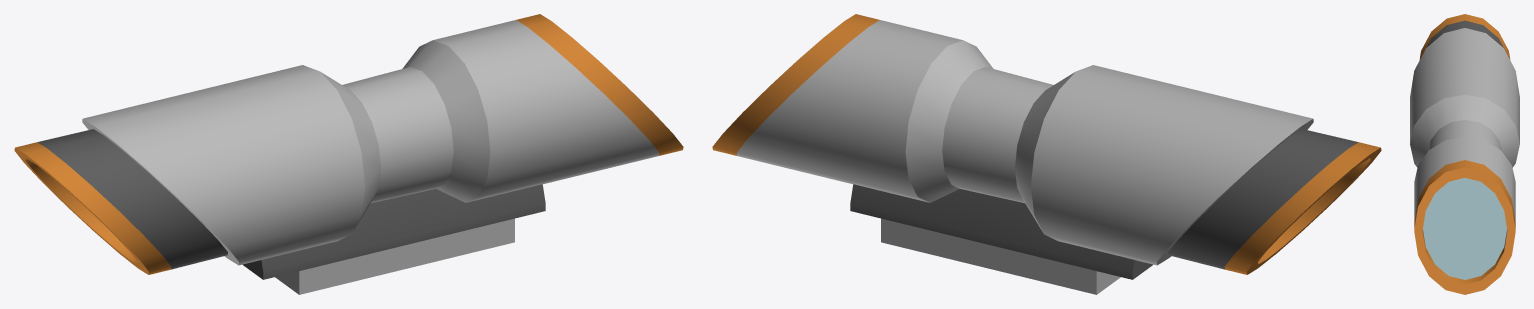
File: Scope_1.gltf
3 views of the same model, side by side, from view 1: azimuth 30°, elevation 25°; view 2: azimuth 150°, elevation 25°; view 3: azimuth 270°, elevation 25° (orthographic). The views are drawn at different scales.
Parts seen in each view (by area): view 1: Scope_1; view 2: Scope_1; view 3: Scope_1.
Part boxes in pixels (bbox=[...]): Scope_1: bbox=[14, 14, 683, 294]; Scope_1: bbox=[712, 14, 1381, 294]; Scope_1: bbox=[1410, 14, 1519, 294].
Size of the model in its own units: 0.5103 by 0.1544 by 0.1236.
